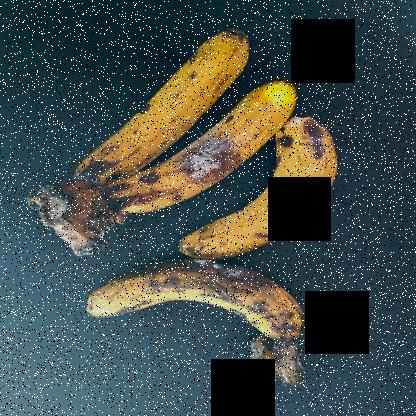overripe: (73, 26, 254, 182), (109, 78, 305, 217), (188, 112, 344, 262)
rotten: (78, 266, 320, 371)
